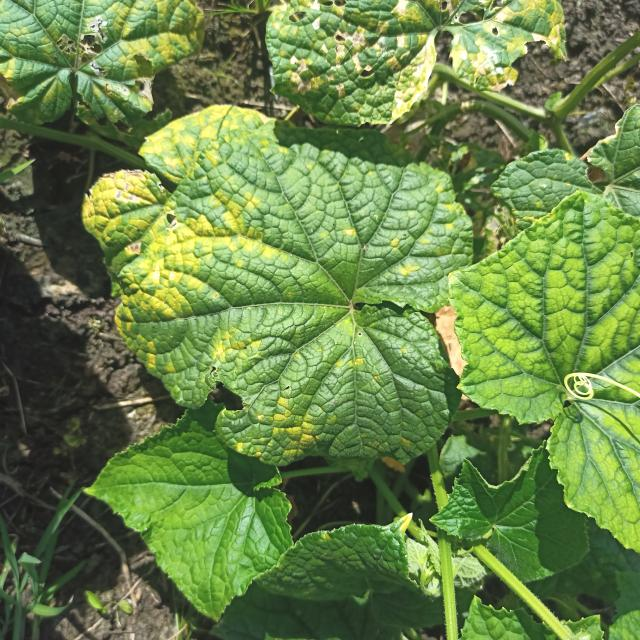disease_cucumber: (83, 109, 260, 375), (202, 327, 324, 462)
